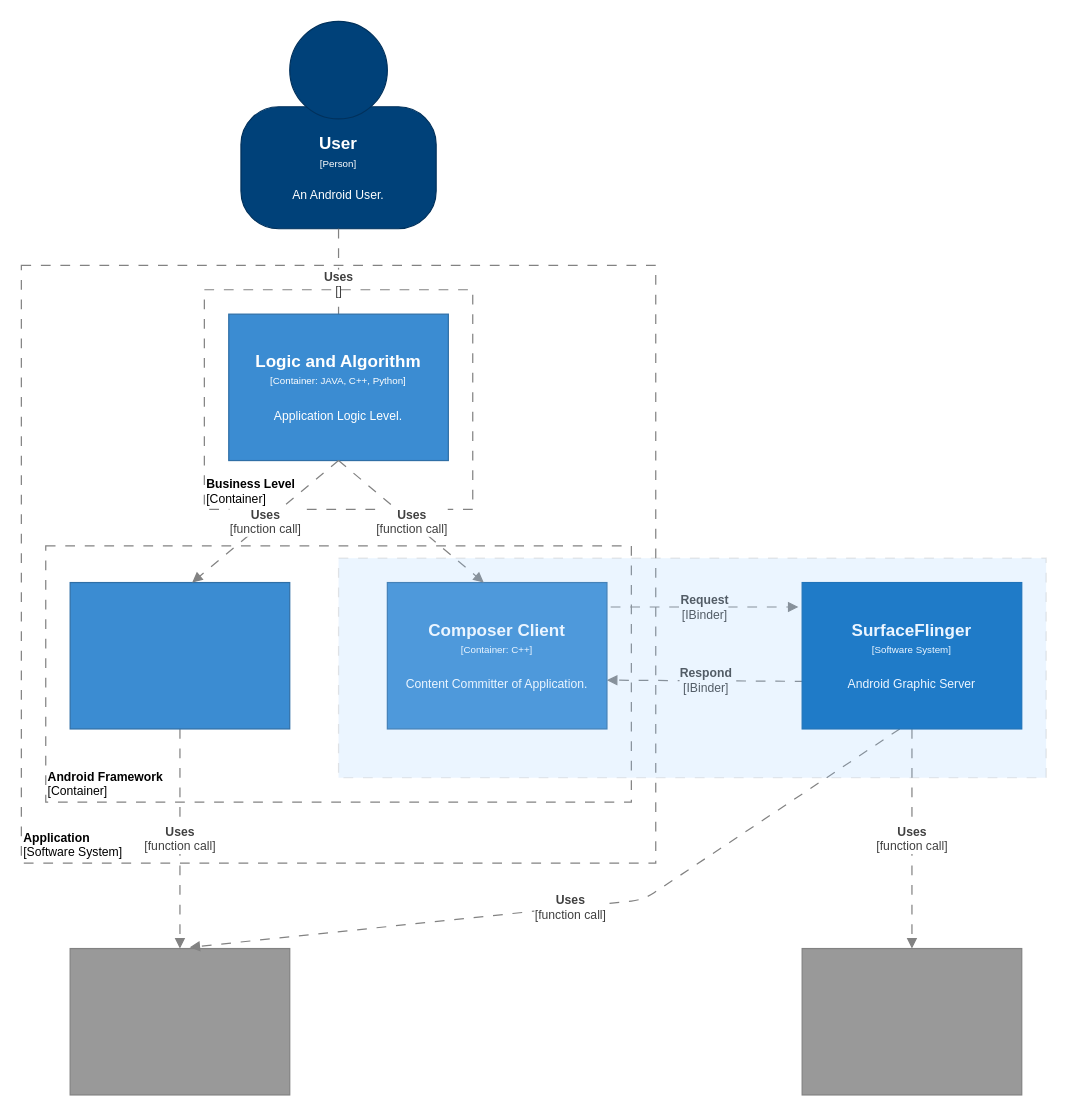
This 1068x1116 diagram has some shape labels left out. Each missing label, with the centre of its shape:
Analysis Objective [Domain]: the point at 691,667
GPU [Software System ] 3D Component.: the point at 179,1021
HWComposer [Software System ] 2D Component.: the point at 911,1021
Renderer [Container: C++ (hwui, skia)] Rendering module of Application.: the point at 179,655
